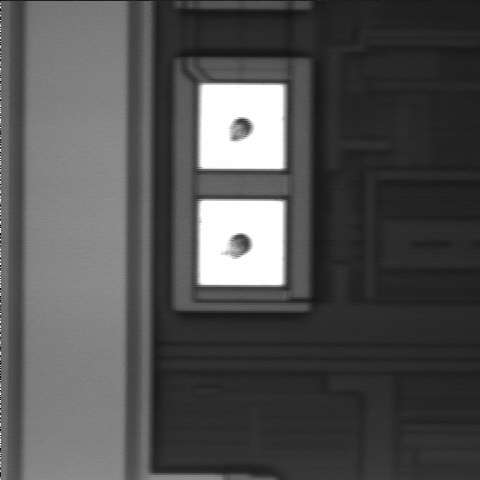pad: (199, 200, 284, 285), (200, 84, 284, 169)
